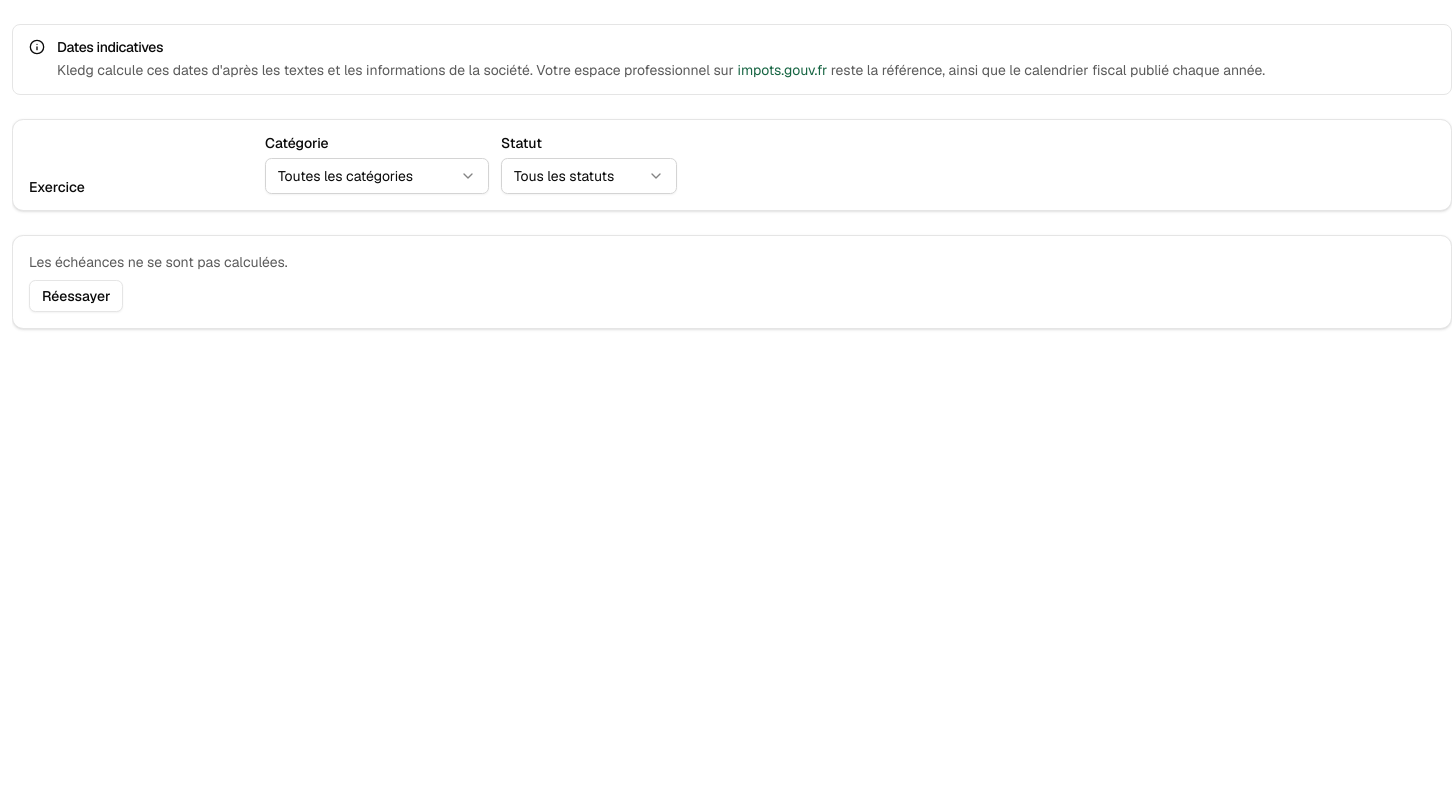
Test: deadlines page › shows the error of the API and loads again on request
Expected: the message shows "Les échéances ne se sont pas calculées.", top-left (29, 253), bottom-right (288, 271)
Click the button "Réessayer": (76, 296) top-left (29, 280), bottom-right (123, 312)
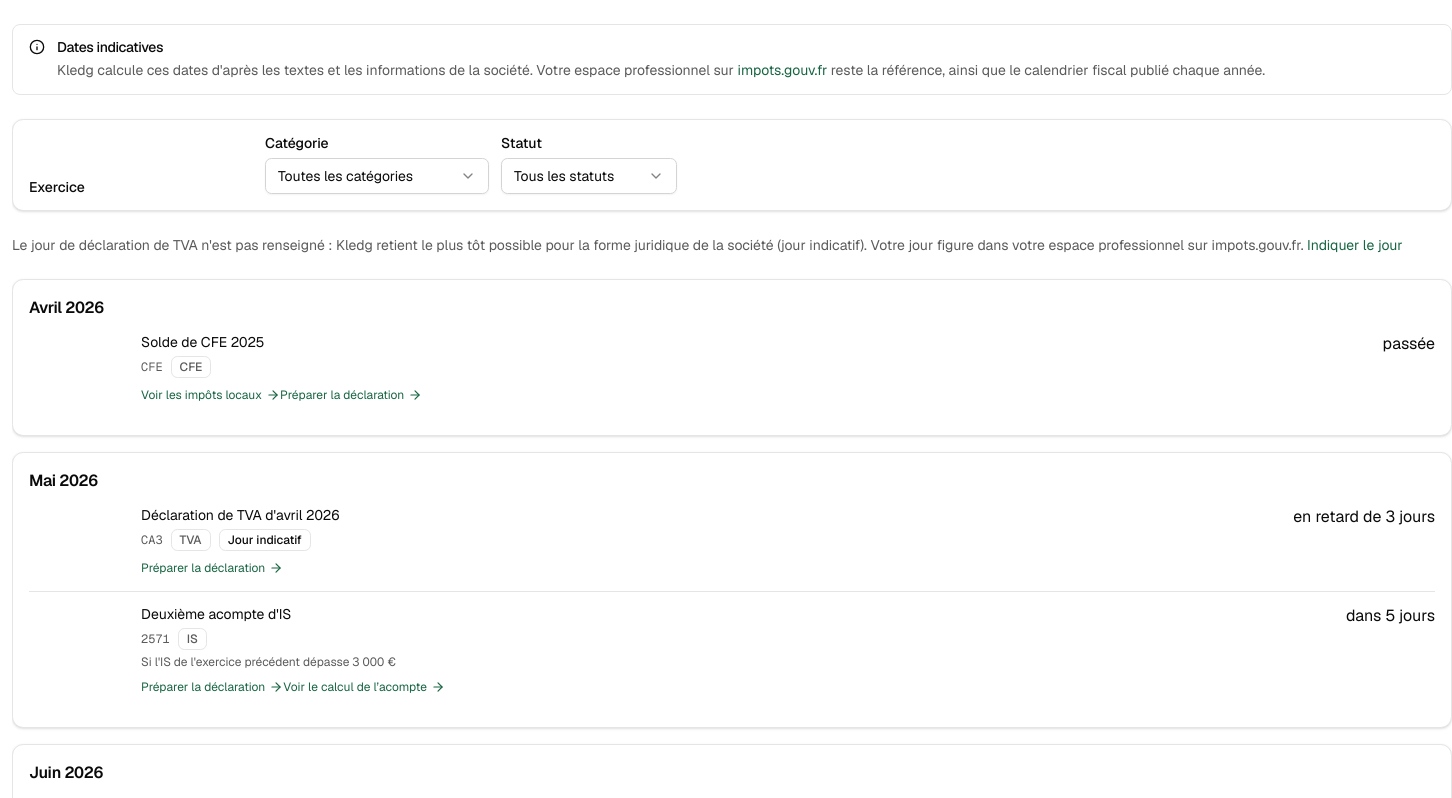
Now the list named "Échéances de mai 2026" is shown, box top-left (29, 493), bottom-right (1435, 711)
